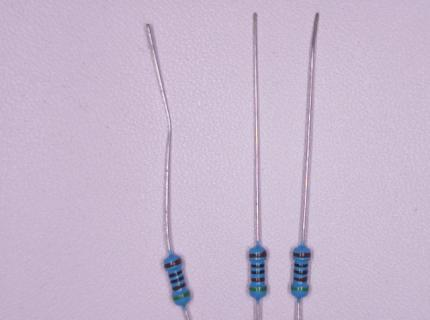Brown band: (173, 282, 186, 291), (294, 276, 308, 282), (252, 277, 265, 283)
Green band: (173, 290, 189, 301), (250, 286, 266, 292), (291, 287, 309, 292)
